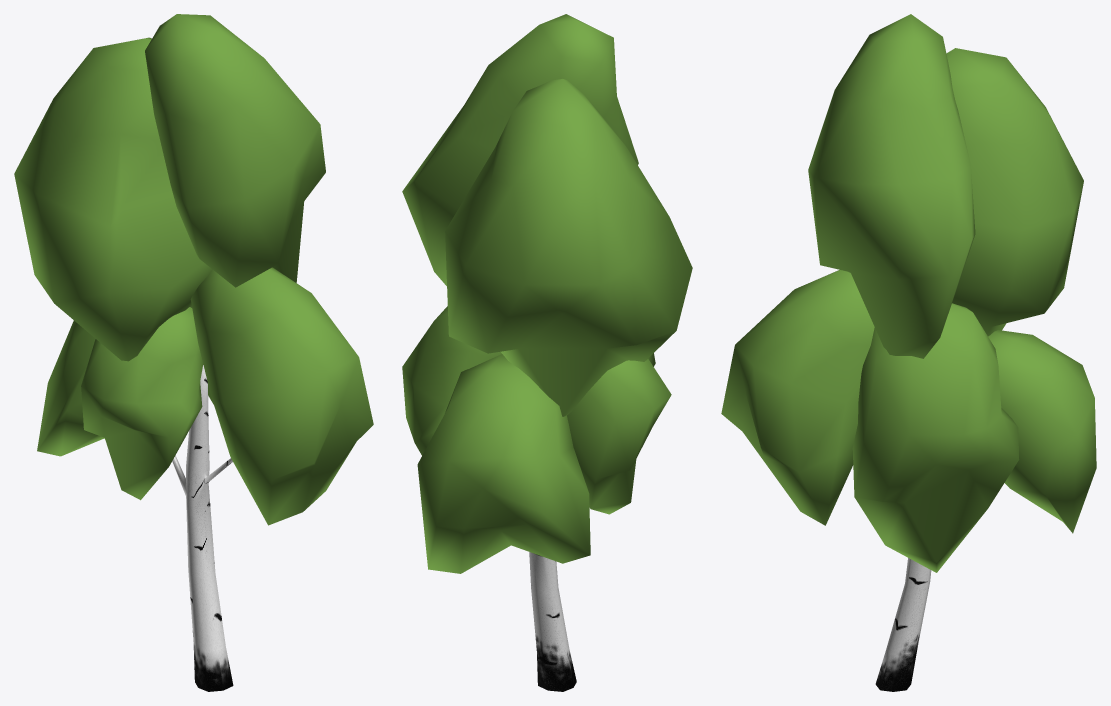
Rendered from Birch02.fbx.
The picture shows the model from 3 angles, left to right: view 1: azimuth 30°, elevation 25°; view 2: azimuth 150°, elevation 25°; view 3: azimuth 270°, elevation 25°; orthographic projection. The views are drawn at different scales.
Parts seen in each view (by area): view 1: Birch02_Leaves, Birch02_Trunk; view 2: Birch02_Leaves, Birch02_Trunk; view 3: Birch02_Leaves, Birch02_Trunk.
Boxes of the visible parts, x1,y1,x2,y2 form: Birch02_Leaves: (14,14,373,525); Birch02_Trunk: (172,365,233,691); Birch02_Leaves: (402,14,692,573); Birch02_Trunk: (529,552,576,691); Birch02_Leaves: (721,14,1096,572); Birch02_Trunk: (875,558,931,691).
Size of the model in its own units: 3.87 by 9.38 by 4.86.
